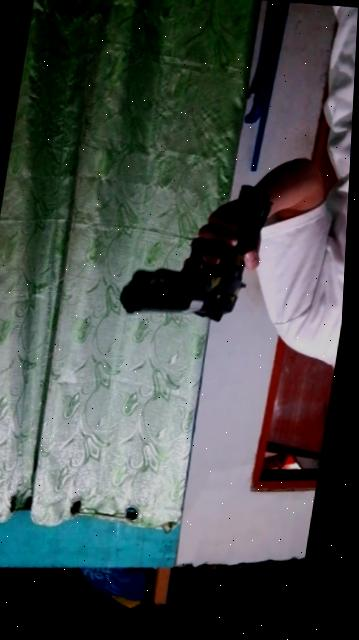pistol: (99, 168, 284, 344)
